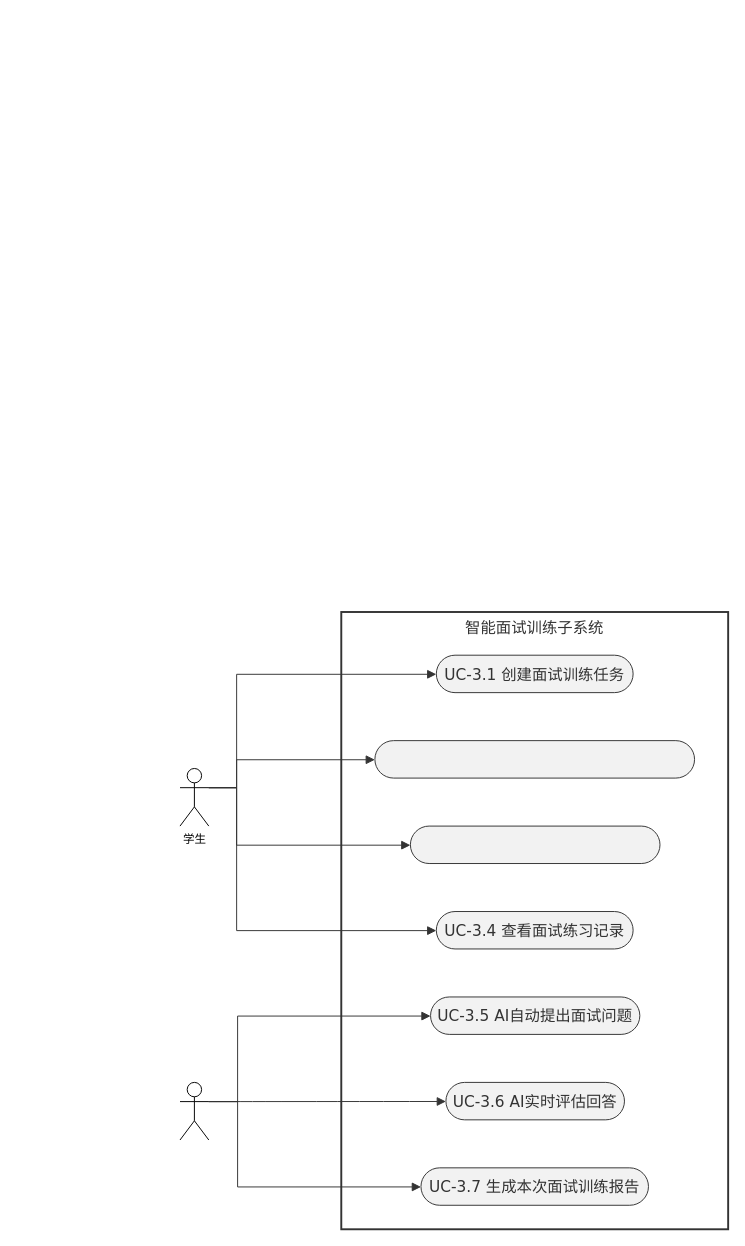
Some shapes in this 745 by 1246 pixel diagram are drawn without their labels. The shapes that lost their labels are listed below. From the top down, each one's centre as x and y in pixels, then its label:
At (x=534, y=759): "UC-3.2 选择面试类型 技术/管理/综合素质".
At (x=534, y=844): "UC-3.3 学生录入回答 文本/语音".
At (x=194, y=1110): "AI面试Agent".
